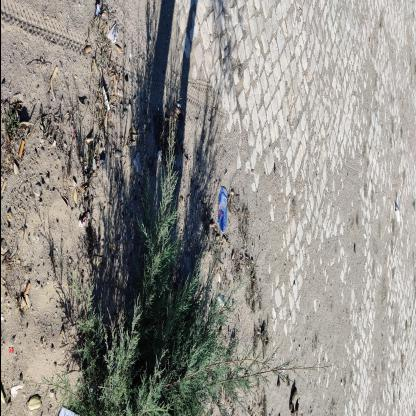metal: (217, 187, 227, 233)
